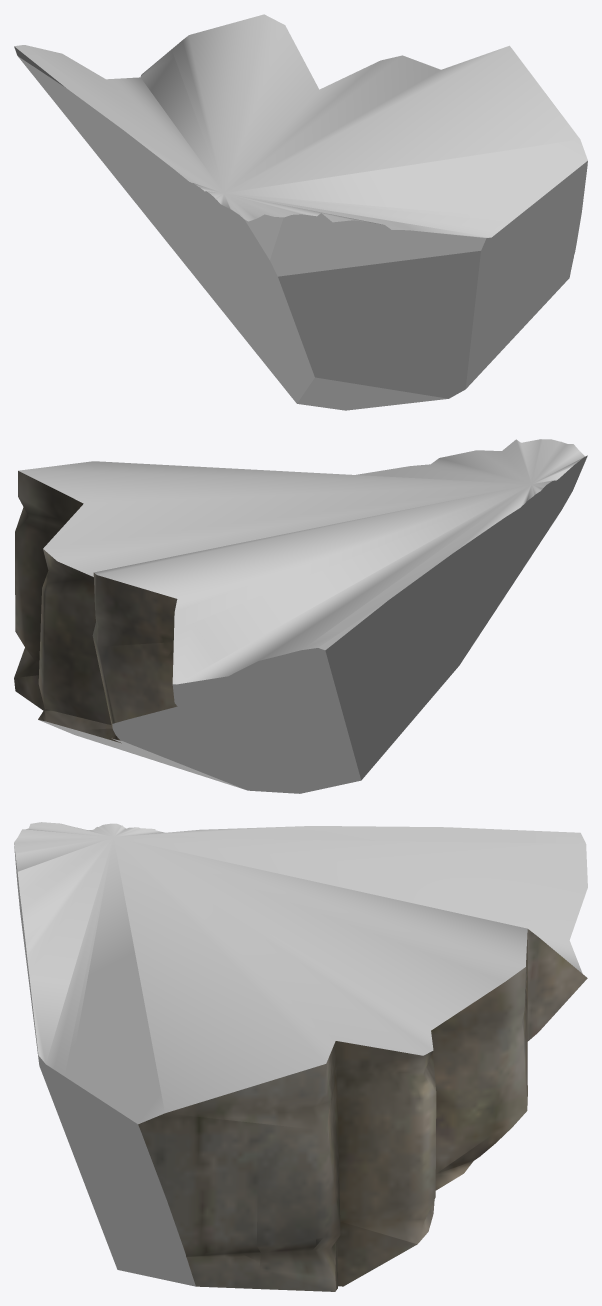
Rendered from ColumnDamage08_35.fbx.
3 views of the same model, one above another, from view 1: azimuth 30°, elevation 25°; view 2: azimuth 150°, elevation 25°; view 3: azimuth 270°, elevation 25° (orthographic). The views are drawn at different scales.
Parts seen in each view (by area): view 1: ColumnDamage08_DM.035; view 2: ColumnDamage08_DM.035; view 3: ColumnDamage08_DM.035.
Part boxes in pixels (x1=…): ColumnDamage08_DM.035: x1=14, y1=14, x2=587, y2=410; ColumnDamage08_DM.035: x1=14, y1=439, x2=587, y2=793; ColumnDamage08_DM.035: x1=14, y1=822, x2=587, y2=1291.
Size of the model in its own units: 178 by 127 by 192.
